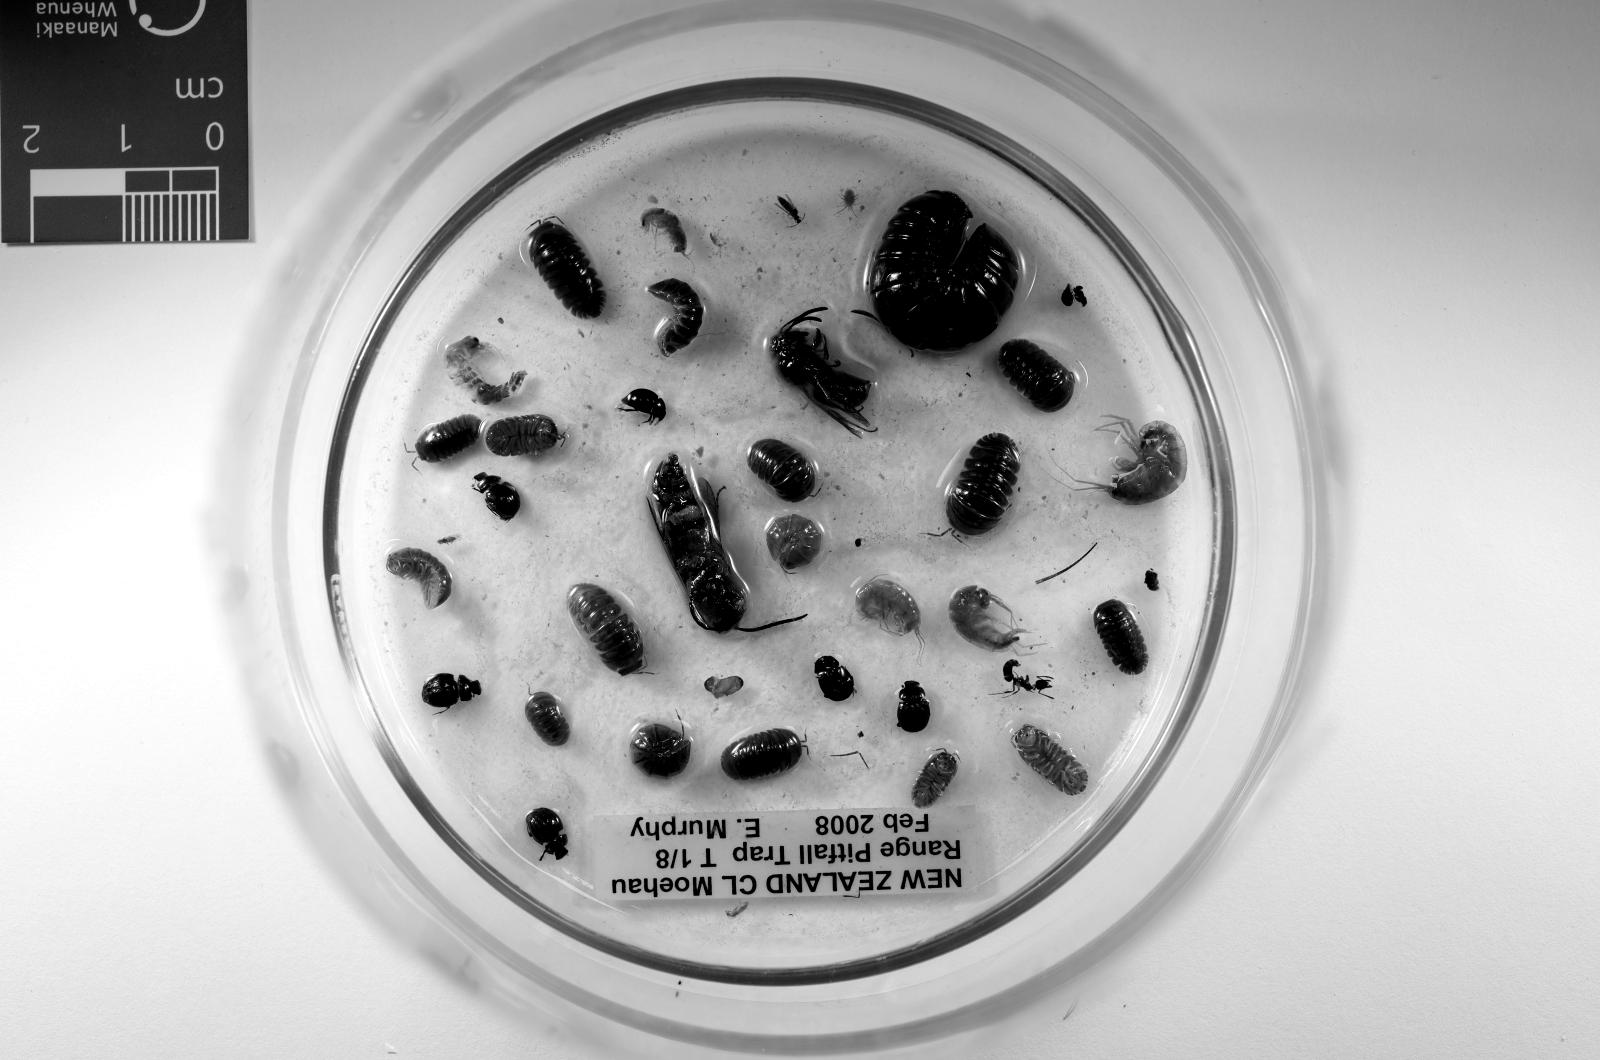acari: (841, 189, 856, 208)
amphipoda: (1078, 416, 1187, 506), (443, 336, 525, 403), (950, 587, 1028, 652), (856, 577, 922, 642), (641, 208, 687, 254)
coleoptera: (472, 472, 522, 522), (525, 807, 569, 860), (422, 674, 481, 707), (816, 655, 856, 702), (896, 680, 931, 733), (622, 388, 666, 422), (1060, 283, 1075, 308)
formicidae: (997, 658, 1054, 696)
hymenoptera: (647, 453, 799, 634), (769, 308, 875, 435), (775, 195, 803, 224)
isopoda: (866, 189, 1018, 351), (944, 435, 1022, 541), (529, 220, 607, 319), (565, 584, 647, 677), (997, 338, 1075, 413), (1012, 726, 1088, 795), (747, 438, 816, 503), (721, 730, 803, 783), (388, 547, 453, 608), (1094, 600, 1147, 674), (650, 279, 704, 354), (415, 413, 481, 463), (485, 416, 565, 457), (765, 516, 822, 571), (631, 724, 691, 776), (525, 692, 572, 745), (913, 751, 957, 807)
